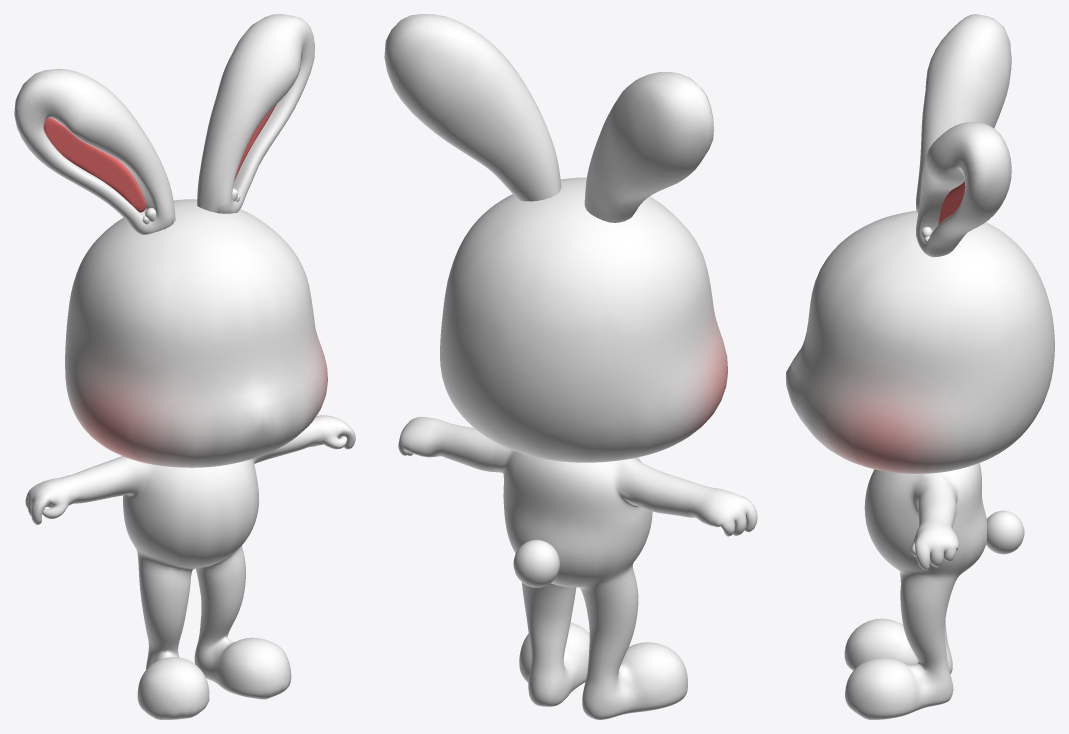
File: T_POSED_BODY_RIGGED_FINAL.gltf
The picture shows the model from 3 angles, left to right: view 1: azimuth 30°, elevation 25°; view 2: azimuth 150°, elevation 25°; view 3: azimuth 270°, elevation 25°; orthographic projection. The views are drawn at different scales.
Parts seen in each view (by area): view 1: T_POSED_BODY; view 2: T_POSED_BODY; view 3: T_POSED_BODY.
Part boxes in pixels (left/top/right/bottom): T_POSED_BODY: left=14, top=14, right=355, bottom=719; T_POSED_BODY: left=384, top=14, right=757, bottom=719; T_POSED_BODY: left=786, top=14, right=1054, bottom=719.
Size of the model in its own units: 0.8839 by 1.62 by 0.643.
Materials: 1 (1 with a texture image).
